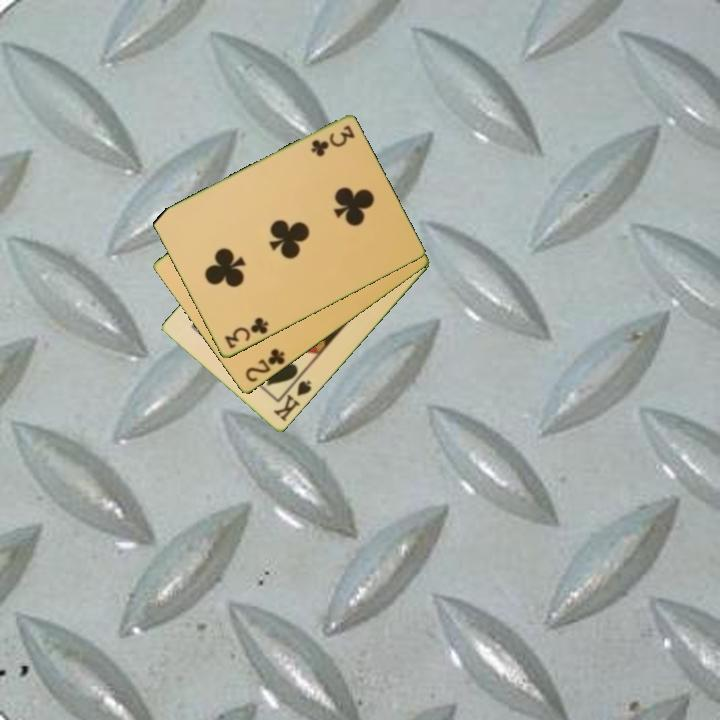2c: (242, 345, 288, 385)
3c: (221, 314, 271, 352), (307, 122, 358, 159)
Ks: (270, 372, 315, 425)
